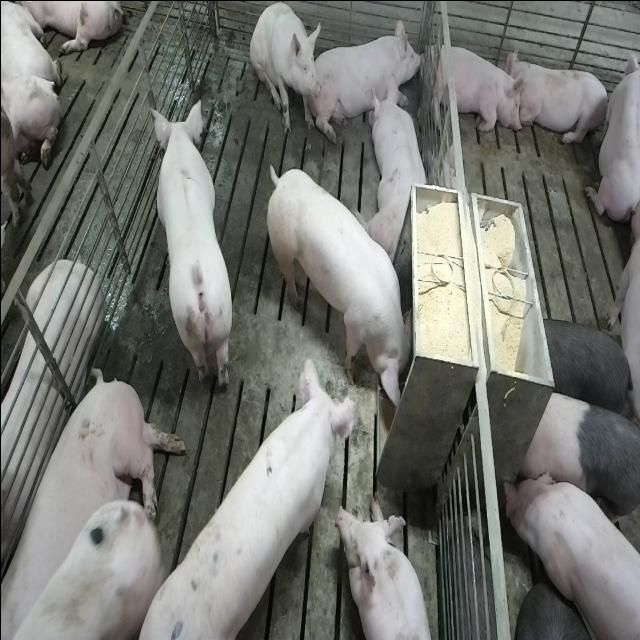Feeding: (270, 163, 420, 414)
Lateral_lying: (7, 365, 184, 637), (0, 259, 102, 582)
Sitting: (249, 2, 319, 136)
Standing: (146, 348, 362, 636), (150, 102, 233, 398), (501, 466, 638, 640), (5, 498, 166, 638), (516, 384, 638, 544), (536, 315, 636, 426)
Sternal_lying: (337, 498, 436, 640), (314, 12, 424, 138), (367, 78, 430, 259), (508, 51, 610, 149), (583, 41, 637, 225), (425, 37, 522, 138)
